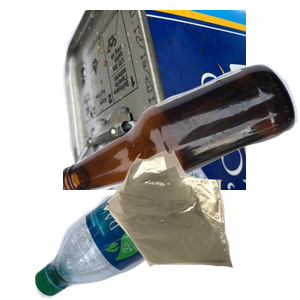glass: (63, 62, 300, 242)
metal: (60, 10, 300, 190)
plastic: (32, 154, 242, 300)
trash: (101, 148, 300, 300)
